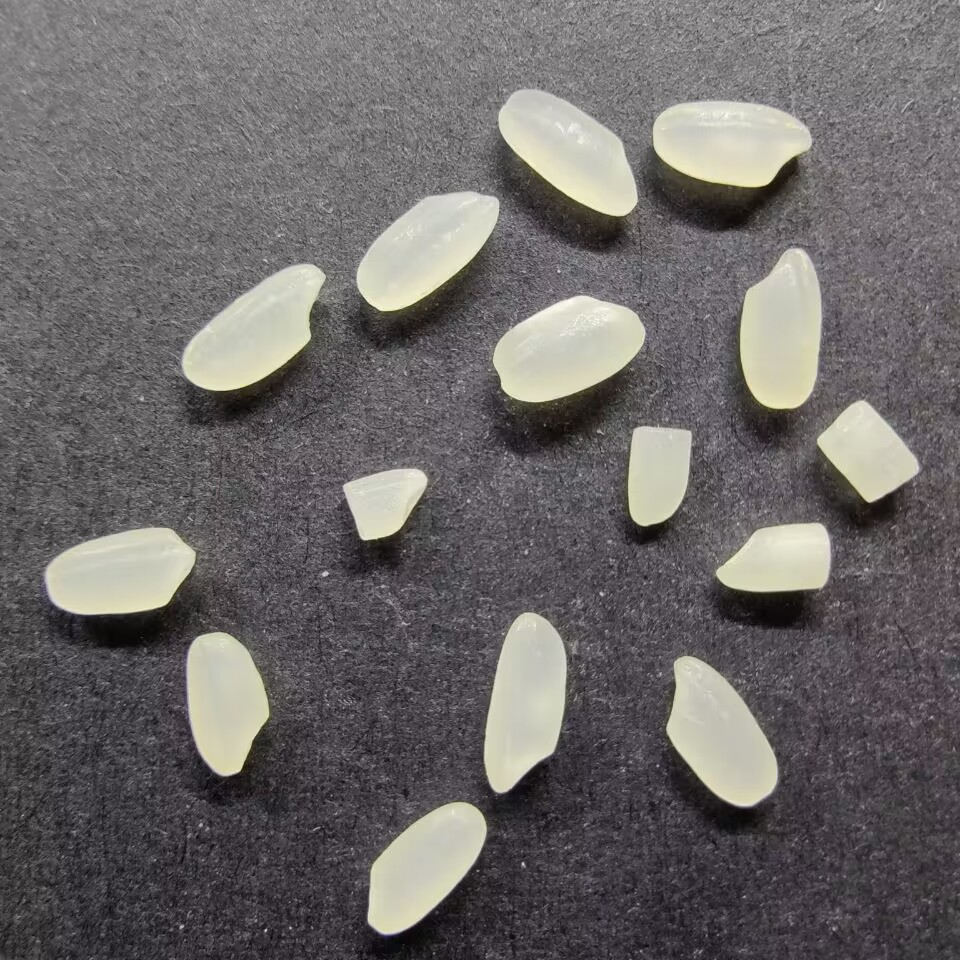broken: (816, 398, 922, 503), (713, 521, 832, 593), (624, 424, 695, 527), (342, 466, 429, 543)
rice: (180, 262, 327, 393), (495, 88, 639, 217), (356, 188, 500, 313), (663, 654, 779, 808), (491, 293, 645, 404), (364, 801, 488, 937), (481, 610, 567, 795), (650, 99, 813, 189), (738, 245, 823, 412), (44, 525, 196, 616), (185, 631, 270, 776)
